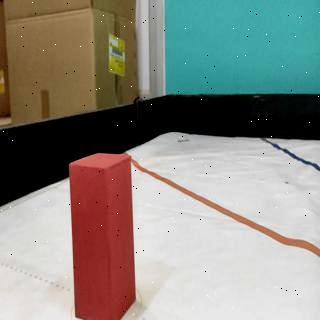redbox: (68, 151, 136, 320)
